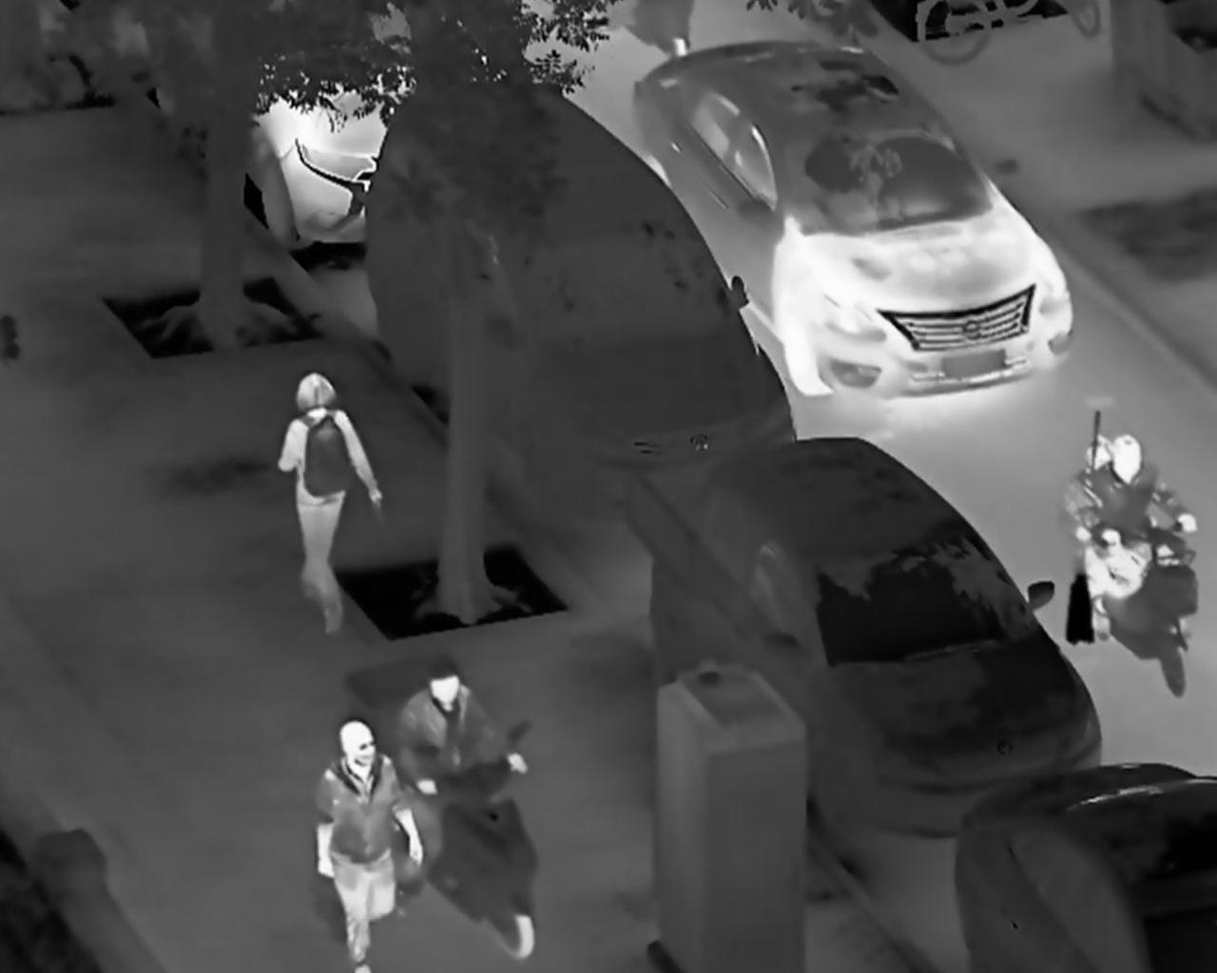person: (395, 657, 531, 907), (310, 713, 428, 971), (276, 369, 385, 639), (1067, 432, 1204, 642)
